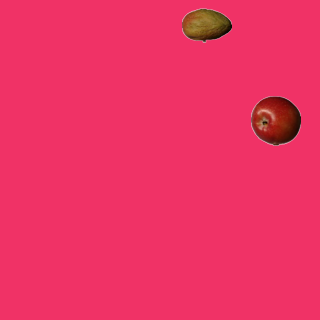Apple Braeburn: (250, 95, 300, 145)
Papaya: (181, 0, 231, 50)
